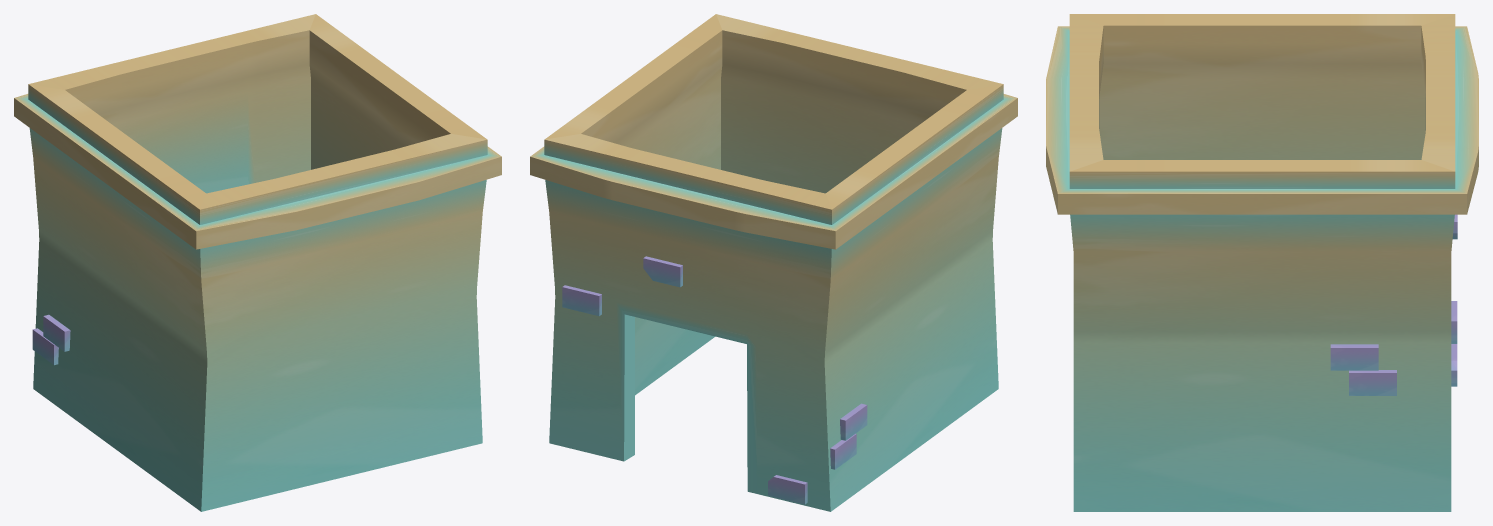
Rendered from B1_Bottom_GreenPurp.fbx.
The picture shows the model from 3 angles, left to right: view 1: azimuth 30°, elevation 25°; view 2: azimuth 150°, elevation 25°; view 3: azimuth 270°, elevation 25°; orthographic projection. The views are drawn at different scales.
Visible parts, largest first — view 1: polySurface3; view 2: polySurface3; view 3: polySurface3.
Part boxes in pixels (x1,y1,x2,y2): polySurface3: [14, 14, 501, 511]; polySurface3: [530, 14, 1017, 511]; polySurface3: [1046, 14, 1478, 511].
Bounding box in the file's own units: 345 × 328 × 376.
